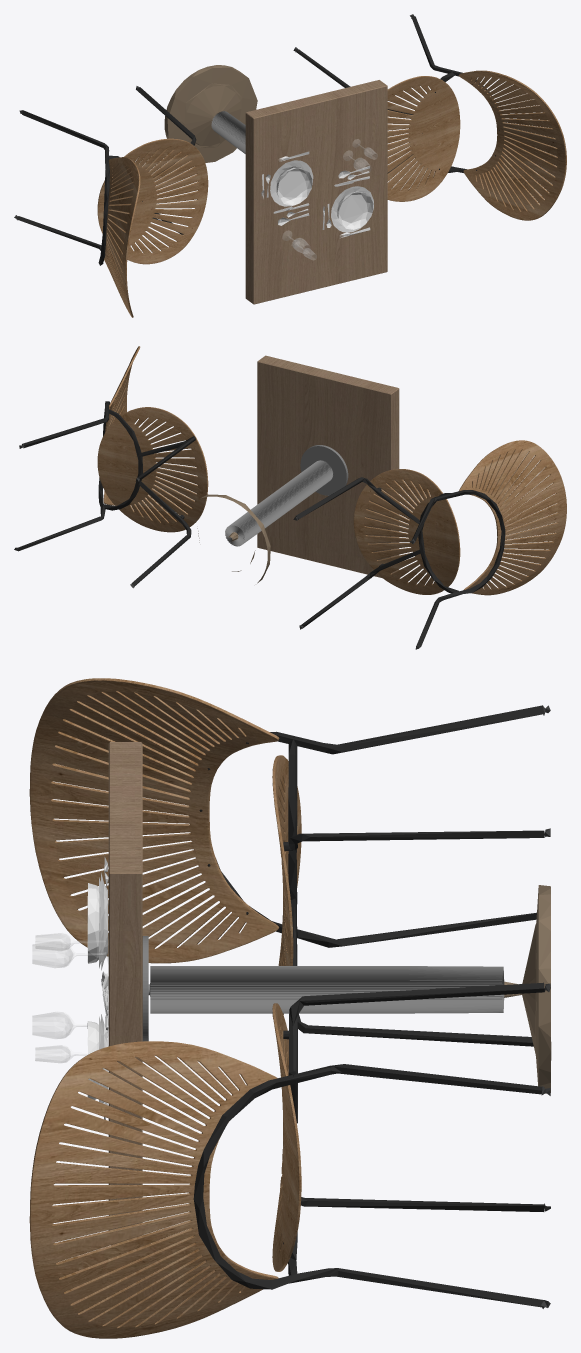
3 views of the same model, one above another, from view 1: azimuth 30°, elevation 25°; view 2: azimuth 150°, elevation 25°; view 3: azimuth 270°, elevation 25° (orthographic). The views are drawn at different scales.
Parts seen in each view (by area): view 1: group001; view 2: group001; view 3: group001.
Boxes of the visible parts, x1,y1,x2,y2 form: group001: [14, 14, 566, 317]; group001: [14, 346, 566, 649]; group001: [29, 678, 551, 1338].
Size of the model in its own units: 1952 by 788 by 998.
Materials: 12 (3 with a texture image).
